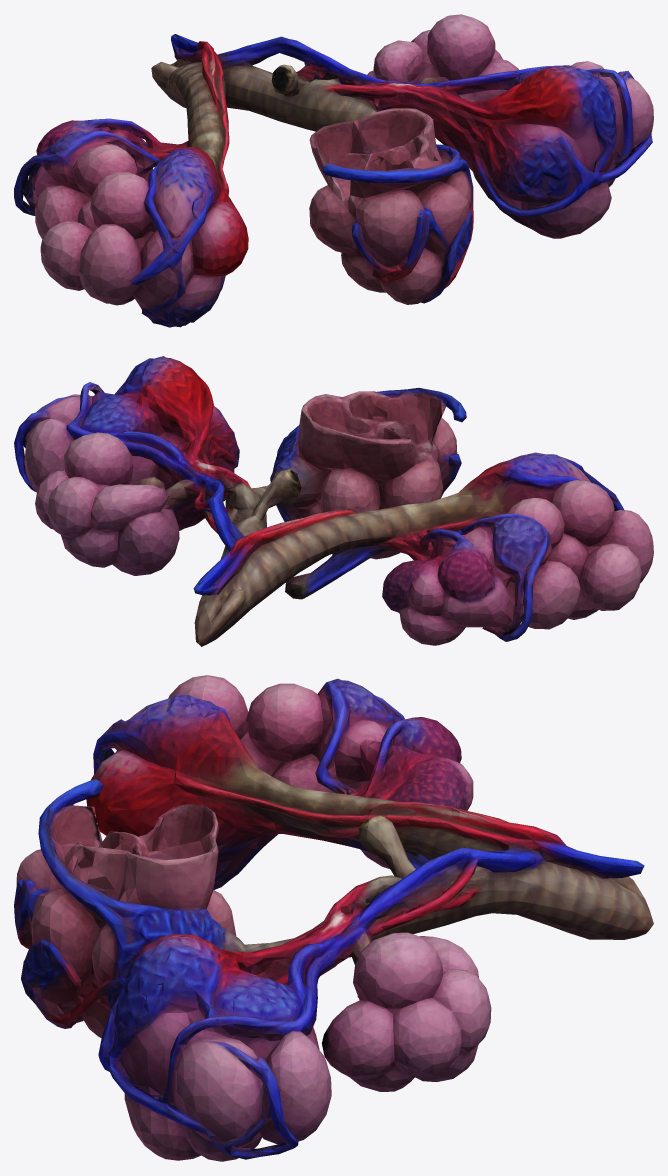
The model's file is tunnel-ring.glb.
The picture shows the model from 3 angles, top to bottom: view 1: azimuth 30°, elevation 25°; view 2: azimuth 150°, elevation 25°; view 3: azimuth 270°, elevation 25°; orthographic projection. The views are drawn at different scales.
Visible parts, largest first — view 1: world; view 2: world; view 3: world.
Part boxes in pixels (bbox=[...]): world: bbox=[14, 14, 653, 327]; world: bbox=[14, 356, 653, 646]; world: bbox=[14, 675, 653, 1161].
Bounding box in the file's own units: 0.9997 × 0.2634 × 0.7012.
1 material, 1 textured.
